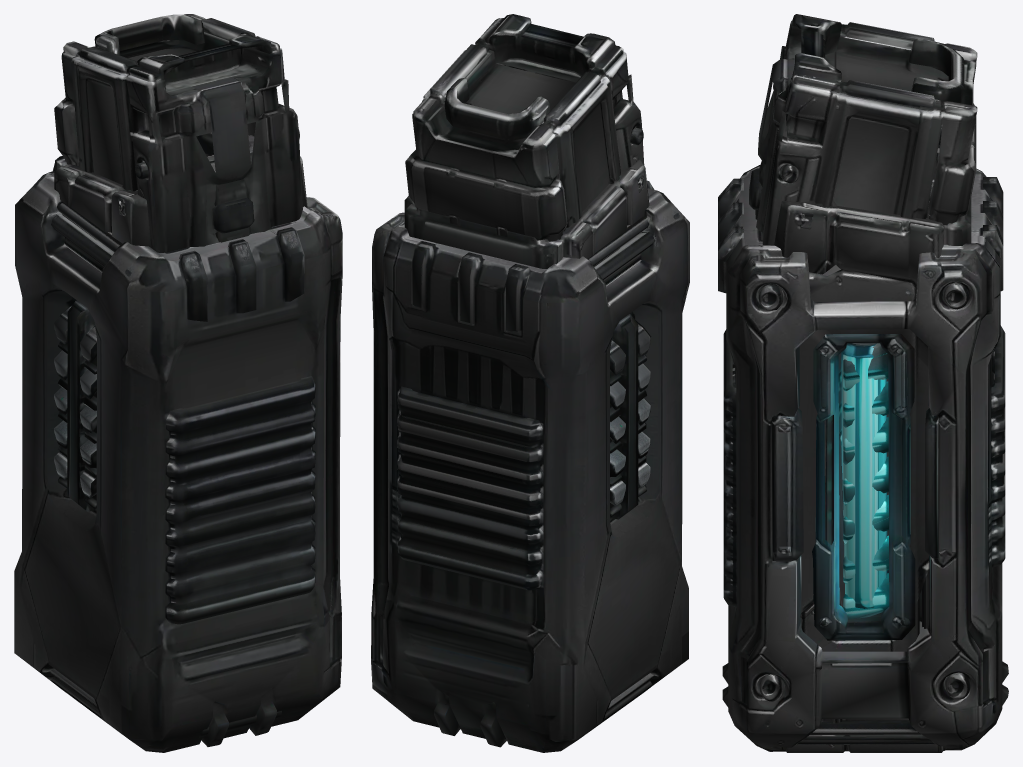
File: mags-modern.glb
3 views of the same model, side by side, from view 1: azimuth 30°, elevation 25°; view 2: azimuth 150°, elevation 25°; view 3: azimuth 270°, elevation 25° (orthographic). The views are drawn at different scales.
Visible parts, largest first — view 1: mag-rifle-0, mag-m416-0, mag-rifle-45, mag-smg-37, mag-rifle-24, mag-m416-1, mag-rifle-43, mag-rifle-42, mag-rifle-44, mag-m416-3, mag-rifle-9, mag-rifle-8; view 2: mag-rifle-0, mag-m416-0, mag-rifle-1, mag-smg-37, mag-rifle-24, mag-m416-1, mag-rifle-52, mag-rifle-3, mag-rifle-2, mag-rifle-9, mag-rifle-8; view 3: mag-rifle-0, mag-m416-0, mag-smg-37, mag-rifle-23, mag-rifle-45, mag-rifle-1, mag-m416-1, mag-smg-6, mag-rifle-46, mag-rifle-7, mag-smg-21, mag-smg-13 (+13 smaller).
Boxes of the visible parts, x1,y1,x2,y2 form: mag-rifle-0: (14, 171, 342, 752); mag-m416-0: (54, 14, 302, 252); mag-rifle-45: (165, 376, 315, 624); mag-smg-37: (54, 132, 307, 271); mag-rifle-24: (67, 300, 96, 511); mag-m416-1: (94, 14, 204, 55); mag-rifle-43: (228, 239, 256, 313); mag-rifle-42: (276, 227, 304, 301); mag-rifle-44: (179, 250, 207, 321); mag-m416-3: (212, 197, 254, 233); mag-rifle-9: (51, 215, 113, 266); mag-rifle-8: (57, 200, 122, 252); mag-rifle-0: (371, 188, 689, 752); mag-m416-0: (405, 14, 644, 241); mag-rifle-1: (397, 386, 543, 590); mag-smg-37: (404, 140, 649, 286); mag-rifle-24: (610, 314, 638, 519); mag-m416-1: (444, 78, 550, 140); mag-rifle-52: (506, 264, 654, 710); mag-rifle-3: (458, 252, 483, 323); mag-rifle-2: (411, 241, 436, 312); mag-rifle-9: (594, 231, 654, 279); mag-rifle-8: (587, 215, 649, 266); mag-rifle-0: (722, 165, 1008, 751); mag-m416-0: (755, 14, 977, 735); mag-smg-37: (755, 148, 971, 723); mag-rifle-23: (841, 343, 887, 608); mag-rifle-45: (723, 329, 737, 607); mag-rifle-1: (991, 325, 1005, 567); mag-m416-1: (909, 38, 964, 103); mag-smg-6: (785, 734, 944, 752); mag-rifle-46: (810, 720, 920, 734); mag-rifle-7: (796, 735, 935, 744); mag-smg-21: (843, 343, 888, 391); mag-smg-13: (843, 573, 889, 619).
Size of the model in its own units: 0.1353 by 0.396 by 0.1543.
Materials: 112 (112 with a texture image).
